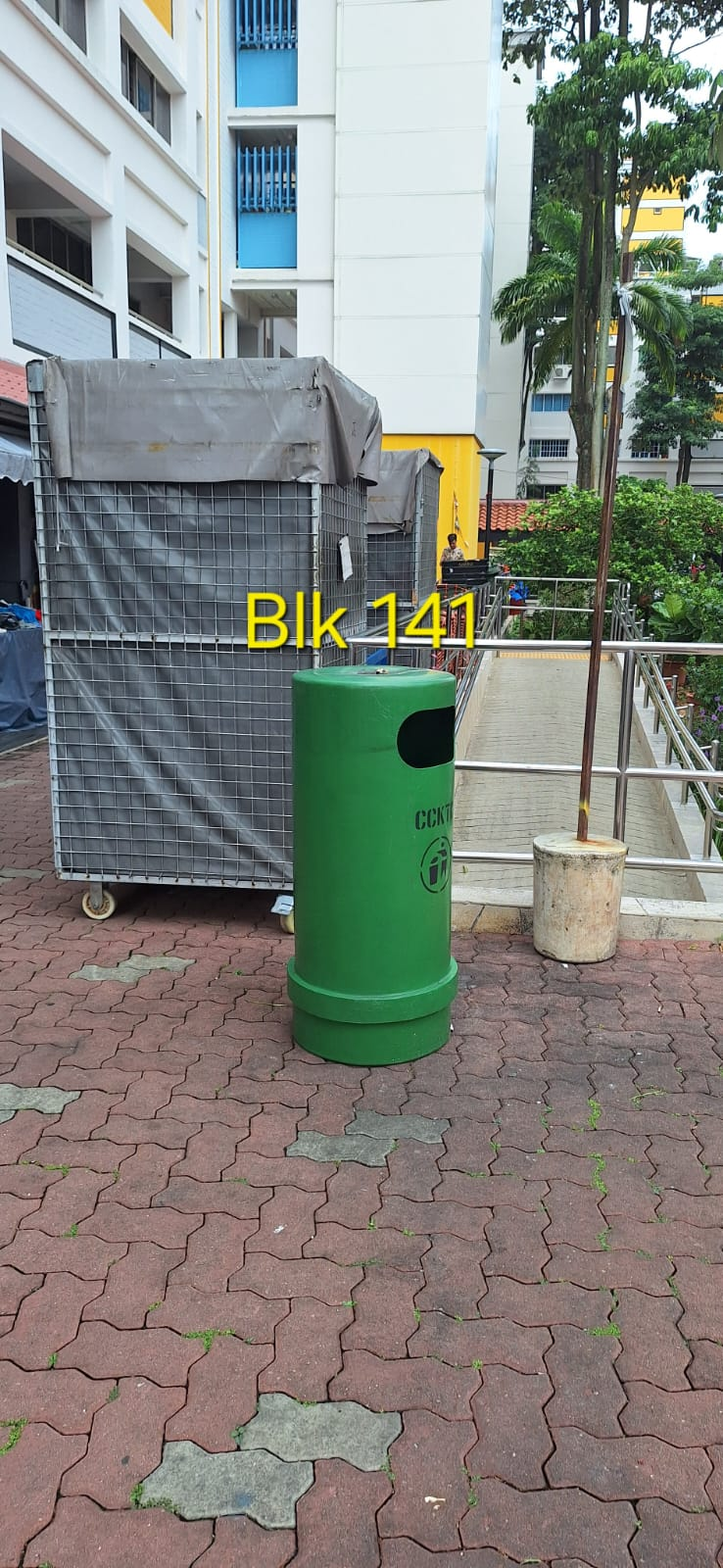bin_empty: (288, 664, 457, 1065)
